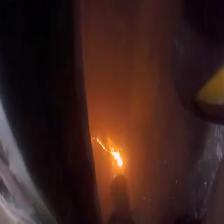fire: (90, 129, 122, 167)
